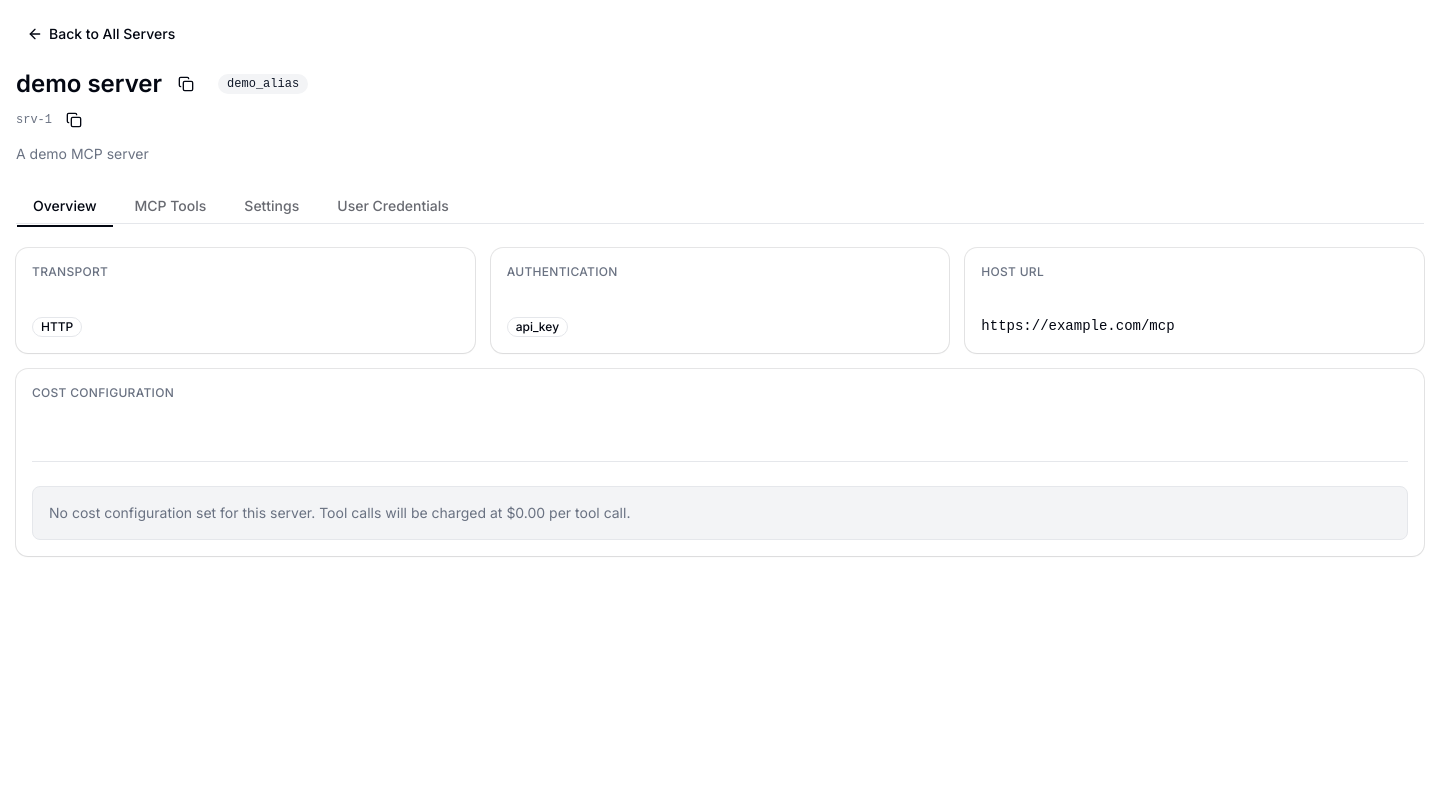
Test case: MCPServerView › shows the read-only settings summary before editing
The image size is (1440, 797).
Click the tab "Settings".
click(272, 206)  # box [227,188,316,222]
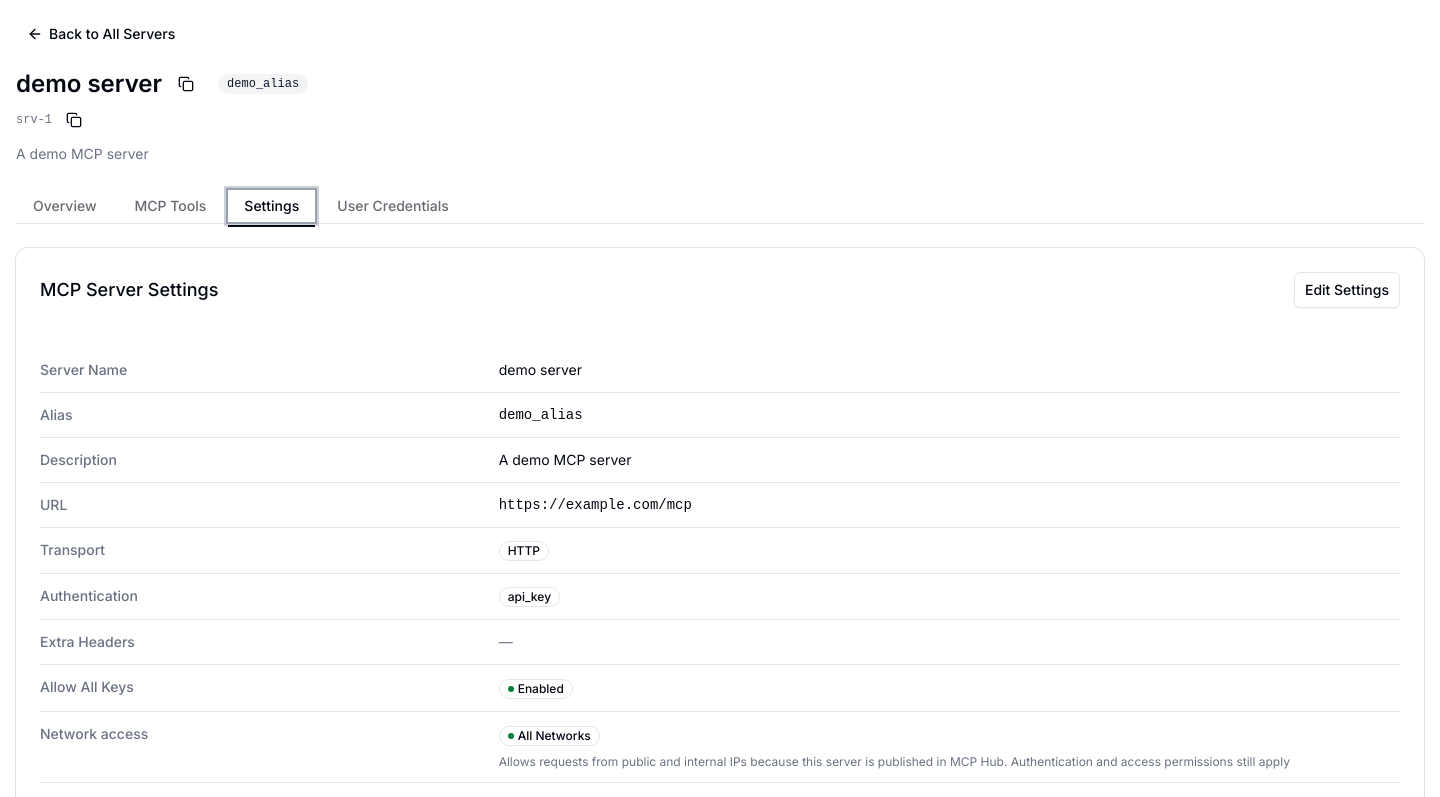
Expected: the heading "MCP Server Settings" is shown, [40,276,218,304]
Expected: the text "Allow All Keys" is shown, [40,678,134,695]
Expected: the text "Enabled" is shown, [499,679,573,699]
